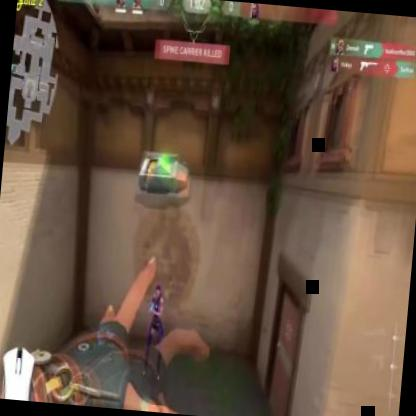enemy: (140, 283, 168, 381)
enemy_head: (154, 284, 162, 299)
